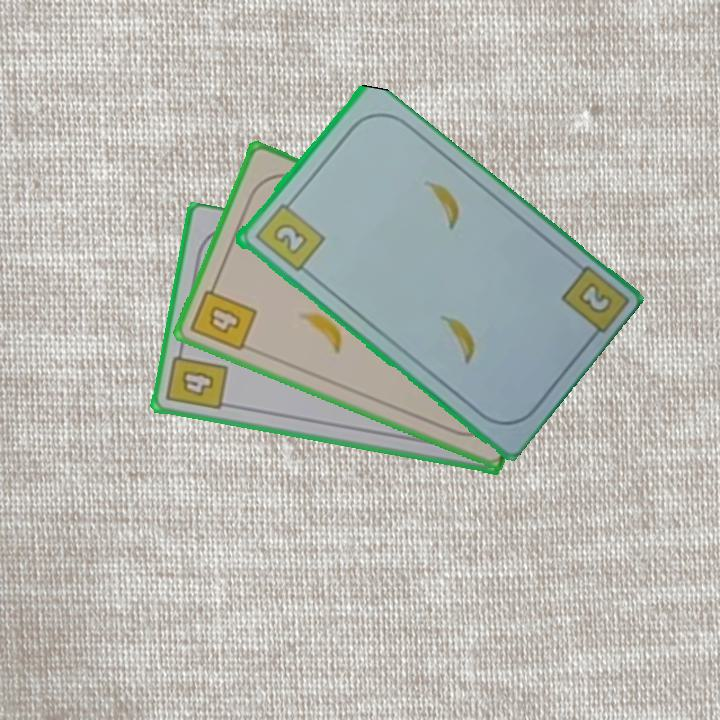2b: (251, 194, 327, 275), (574, 278, 615, 317)
4b: (187, 276, 260, 354), (163, 343, 231, 413)
